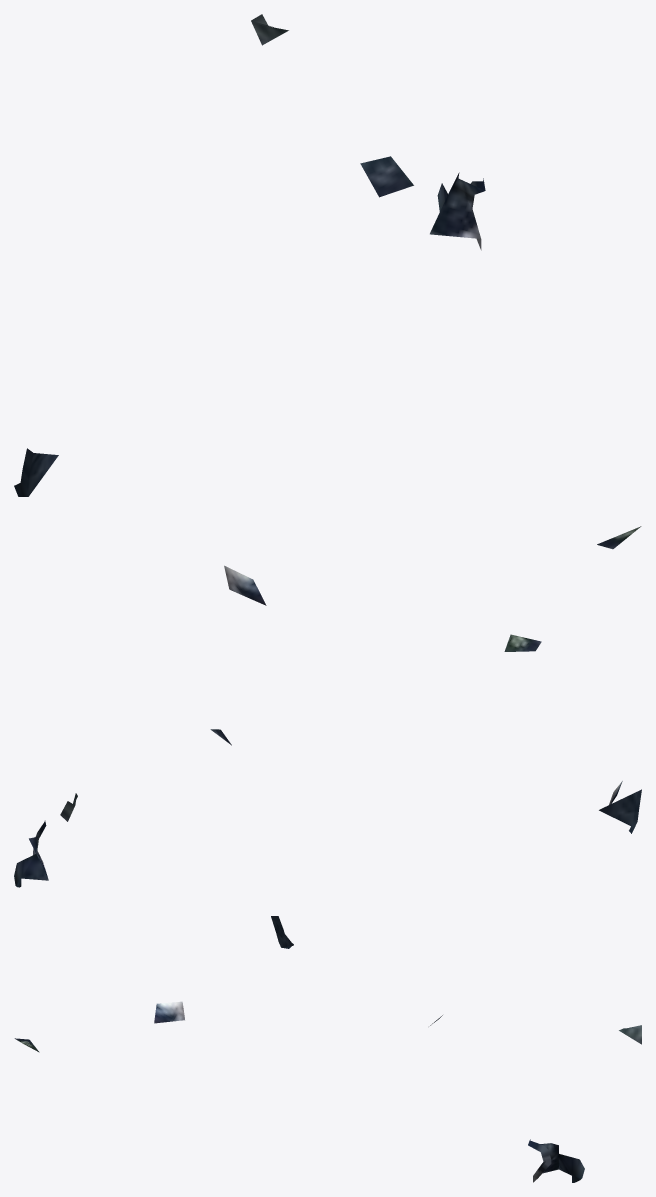
3 views of the same model, one above another, from view 1: azimuth 30°, elevation 25°; view 2: azimuth 150°, elevation 25°; view 3: azimuth 270°, elevation 25° (orthographic). The views are drawn at different scales.
Visible parts, largest first — view 1: 30436272704370437600_1; view 2: 30436272704370437600_1; view 3: 30436272704370437600_1.
Boxes of the visible parts, <box> form: 30436272704370437600_1: <box>14,14,641,605</box>; 30436272704370437600_1: <box>14,634,641,887</box>; 30436272704370437600_1: <box>14,916,641,1182</box>.
Size of the model in its own units: 27.31 by 7.86 by 37.33.
Materials: 1 (1 with a texture image).
